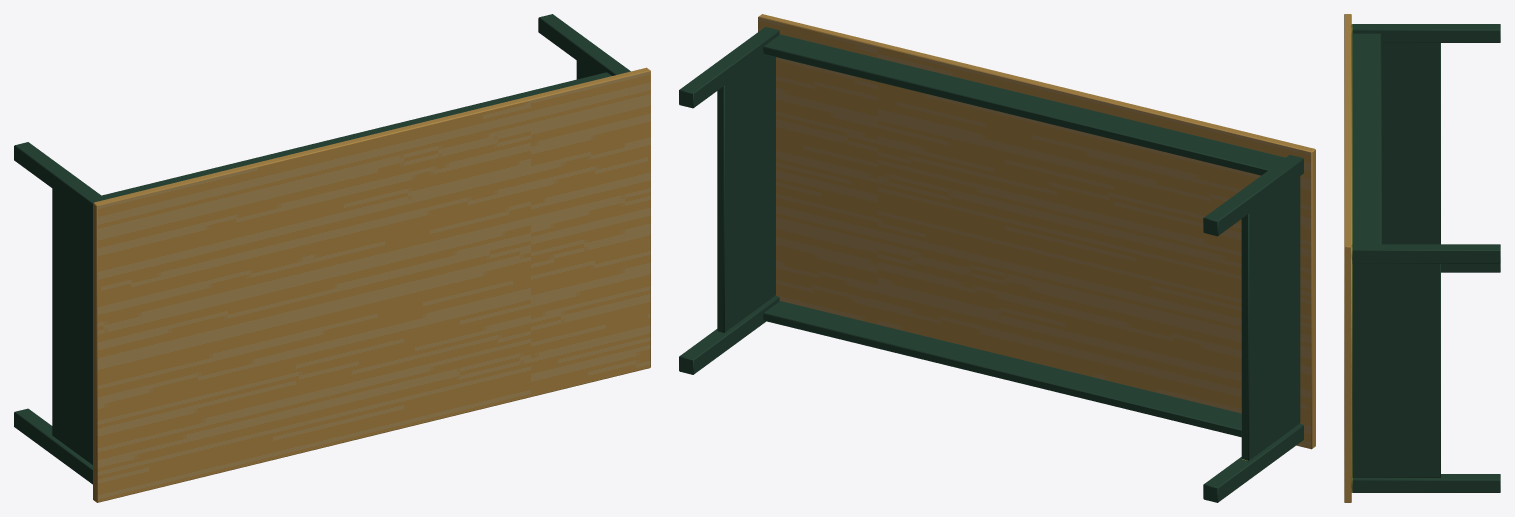
Rendered from prop_desk_02.glb.
3 renders of one model, left to right at view 1: azimuth 30°, elevation 25°; view 2: azimuth 150°, elevation 25°; view 3: azimuth 270°, elevation 25°, orthographic. The views are drawn at different scales.
Visible parts, largest first — view 1: desk1; view 2: desk1; view 3: desk1.
Boxes of the visible parts, x1,y1,x2,y2 form: desk1: [14, 14, 650, 502]; desk1: [679, 14, 1315, 502]; desk1: [1344, 14, 1500, 502].
Size of the model in its own units: 148 by 76 by 42.
Materials: 4 (4 with a texture image).
